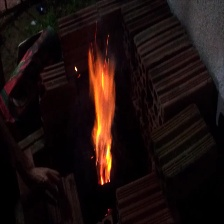fire: (79, 48, 126, 185)
